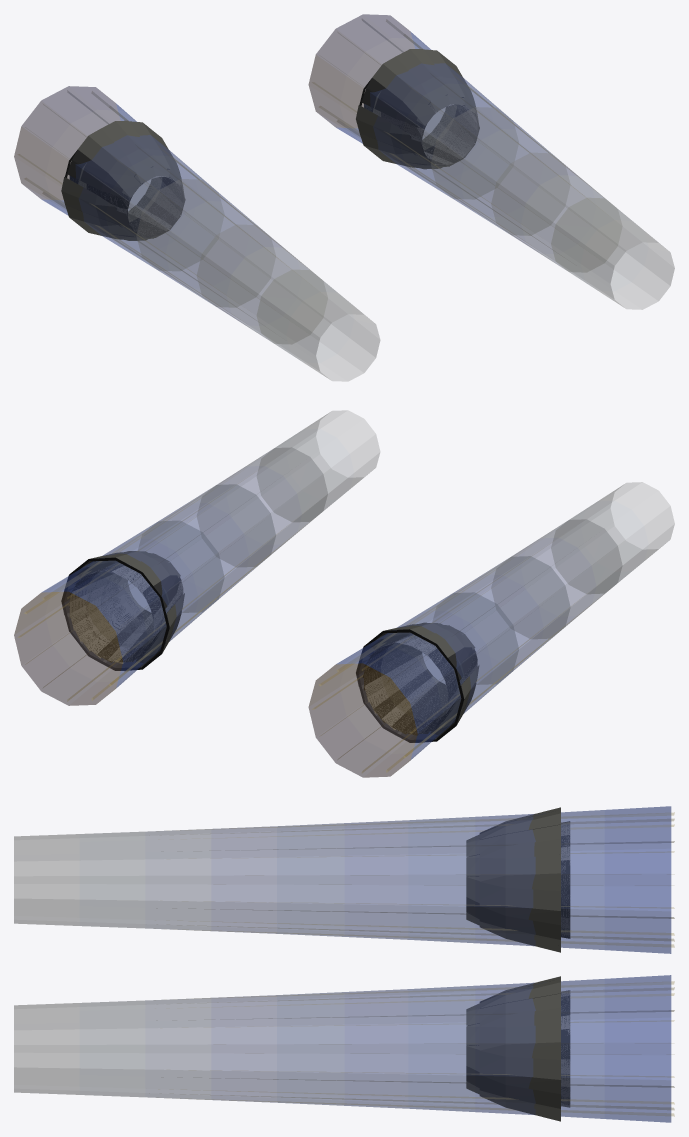
Rendered from Bunner_F14NG.obj.
The picture shows the model from 3 angles, top to bottom: view 1: azimuth 30°, elevation 25°; view 2: azimuth 150°, elevation 25°; view 3: azimuth 270°, elevation 25°; orthographic projection. The views are drawn at different scales.
Visible parts, largest first — view 1: ShapeIndexedFaceSet.342_ShapeIndexedFaceSet.343, ShapeIndexedFaceSet.329_ShapeIndexedFaceSet.330, ShapeIndexedFaceSet.322_ShapeIndexedFaceSet.323, ShapeIndexedFaceSet.335_ShapeIndexedFaceSet.336, ShapeIndexedFaceSet.344_ShapeIndexedFaceSet.345, ShapeIndexedFaceSet.331_ShapeIndexedFaceSet.332, ShapeIndexedFaceSet.345_ShapeIndexedFaceSet.346, ShapeIndexedFaceSet.332_ShapeIndexedFaceSet.333, ShapeIndexedFaceSet.336_ShapeIndexedFaceSet.337, ShapeIndexedFaceSet.323_ShapeIndexedFaceSet.324, ShapeIndexedFaceSet.325_ShapeIndexedFaceSet.326, ShapeIndexedFaceSet.338_ShapeIndexedFaceSet.339 (+26 smaller); view 2: ShapeIndexedFaceSet.342_ShapeIndexedFaceSet.343, ShapeIndexedFaceSet.329_ShapeIndexedFaceSet.330, ShapeIndexedFaceSet.322_ShapeIndexedFaceSet.323, ShapeIndexedFaceSet.335_ShapeIndexedFaceSet.336, ShapeIndexedFaceSet.336_ShapeIndexedFaceSet.337, ShapeIndexedFaceSet.323_ShapeIndexedFaceSet.324, ShapeIndexedFaceSet.328_ShapeIndexedFaceSet.329, ShapeIndexedFaceSet.341_ShapeIndexedFaceSet.342, ShapeIndexedFaceSet.326_ShapeIndexedFaceSet.327, ShapeIndexedFaceSet.339_ShapeIndexedFaceSet.340, ShapeIndexedFaceSet.346_ShapeIndexedFaceSet.347, ShapeIndexedFaceSet.333_ShapeIndexedFaceSet.334 (+30 smaller); view 3: ShapeIndexedFaceSet.336_ShapeIndexedFaceSet.337, ShapeIndexedFaceSet.323_ShapeIndexedFaceSet.324, ShapeIndexedFaceSet.340_ShapeIndexedFaceSet.341, ShapeIndexedFaceSet.327_ShapeIndexedFaceSet.328, ShapeIndexedFaceSet.325_ShapeIndexedFaceSet.326, ShapeIndexedFaceSet.338_ShapeIndexedFaceSet.339, ShapeIndexedFaceSet.337_ShapeIndexedFaceSet.338, ShapeIndexedFaceSet.324_ShapeIndexedFaceSet.325, ShapeIndexedFaceSet.339_ShapeIndexedFaceSet.340, ShapeIndexedFaceSet.326_ShapeIndexedFaceSet.327, ShapeIndexedFaceSet.330_ShapeIndexedFaceSet.331, ShapeIndexedFaceSet.343_ShapeIndexedFaceSet.344 (+22 smaller).
Boxes of the visible parts, x1=… form: ShapeIndexedFaceSet.342_ShapeIndexedFaceSet.343: x1=373, y1=93, x2=622, y2=272; ShapeIndexedFaceSet.329_ShapeIndexedFaceSet.330: x1=79, y1=166, x2=327, y2=344; ShapeIndexedFaceSet.322_ShapeIndexedFaceSet.323: x1=14, y1=86, x2=120, y2=199; ShapeIndexedFaceSet.335_ShapeIndexedFaceSet.336: x1=309, y1=14, x2=414, y2=127; ShapeIndexedFaceSet.344_ShapeIndexedFaceSet.345: x1=551, y1=198, x2=648, y2=290; ShapeIndexedFaceSet.331_ShapeIndexedFaceSet.332: x1=257, y1=270, x2=353, y2=362; ShapeIndexedFaceSet.345_ShapeIndexedFaceSet.346: x1=581, y1=220, x2=674, y2=309; ShapeIndexedFaceSet.332_ShapeIndexedFaceSet.333: x1=286, y1=292, x2=380, y2=381; ShapeIndexedFaceSet.336_ShapeIndexedFaceSet.337: x1=308, y1=14, x2=430, y2=143; ShapeIndexedFaceSet.323_ShapeIndexedFaceSet.324: x1=14, y1=86, x2=136, y2=215; ShapeIndexedFaceSet.325_ShapeIndexedFaceSet.326: x1=136, y1=179, x2=246, y2=288; ShapeIndexedFaceSet.338_ShapeIndexedFaceSet.339: x1=431, y1=107, x2=540, y2=216; ShapeIndexedFaceSet.342_ShapeIndexedFaceSet.343: x1=80, y1=447, x2=327, y2=656; ShapeIndexedFaceSet.329_ShapeIndexedFaceSet.330: x1=374, y1=519, x2=622, y2=727; ShapeIndexedFaceSet.322_ShapeIndexedFaceSet.323: x1=308, y1=663, x2=417, y2=777; ShapeIndexedFaceSet.335_ShapeIndexedFaceSet.336: x1=14, y1=592, x2=122, y2=705; ShapeIndexedFaceSet.336_ShapeIndexedFaceSet.337: x1=14, y1=574, x2=148, y2=705; ShapeIndexedFaceSet.323_ShapeIndexedFaceSet.324: x1=309, y1=646, x2=442, y2=777; ShapeIndexedFaceSet.328_ShapeIndexedFaceSet.329: x1=340, y1=632, x2=464, y2=753; ShapeIndexedFaceSet.341_ShapeIndexedFaceSet.342: x1=45, y1=561, x2=170, y2=681; ShapeIndexedFaceSet.326_ShapeIndexedFaceSet.327: x1=465, y1=556, x2=570, y2=661; ShapeIndexedFaceSet.339_ShapeIndexedFaceSet.340: x1=170, y1=484, x2=275, y2=590; ShapeIndexedFaceSet.346_ShapeIndexedFaceSet.347: x1=230, y1=447, x2=327, y2=544; ShapeIndexedFaceSet.333_ShapeIndexedFaceSet.334: x1=525, y1=519, x2=622, y2=615; ShapeIndexedFaceSet.336_ShapeIndexedFaceSet.337: x1=604, y1=975, x2=671, y2=1122; ShapeIndexedFaceSet.323_ShapeIndexedFaceSet.324: x1=604, y1=806, x2=671, y2=953; ShapeIndexedFaceSet.340_ShapeIndexedFaceSet.341: x1=408, y1=985, x2=475, y2=1111; ShapeIndexedFaceSet.327_ShapeIndexedFaceSet.328: x1=408, y1=817, x2=475, y2=943; ShapeIndexedFaceSet.325_ShapeIndexedFaceSet.326: x1=344, y1=820, x2=408, y2=939; ShapeIndexedFaceSet.338_ShapeIndexedFaceSet.339: x1=344, y1=989, x2=408, y2=1108; ShapeIndexedFaceSet.337_ShapeIndexedFaceSet.338: x1=475, y1=982, x2=539, y2=1114; ShapeIndexedFaceSet.324_ShapeIndexedFaceSet.325: x1=475, y1=814, x2=538, y2=946; ShapeIndexedFaceSet.339_ShapeIndexedFaceSet.340: x1=277, y1=992, x2=344, y2=1105; ShapeIndexedFaceSet.326_ShapeIndexedFaceSet.327: x1=277, y1=823, x2=344, y2=936; ShapeIndexedFaceSet.330_ShapeIndexedFaceSet.331: x1=211, y1=826, x2=276, y2=933; ShapeIndexedFaceSet.343_ShapeIndexedFaceSet.344: x1=211, y1=995, x2=276, y2=1102.
Size of the model in its own units: 41.68 by 11.28 by 50.28.
